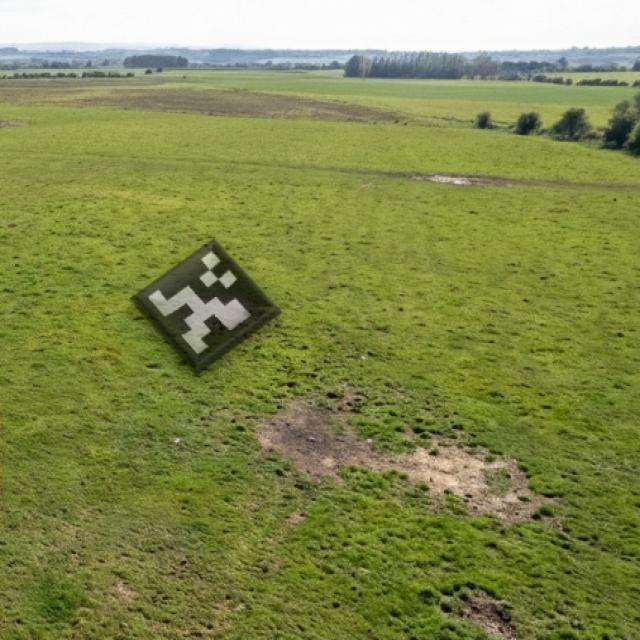marker: (127, 229, 288, 383)
